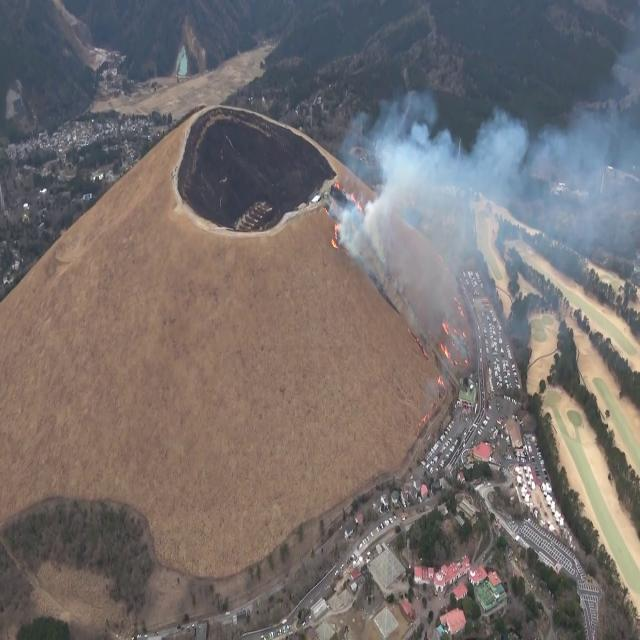Smoke: (340, 75, 530, 291)
